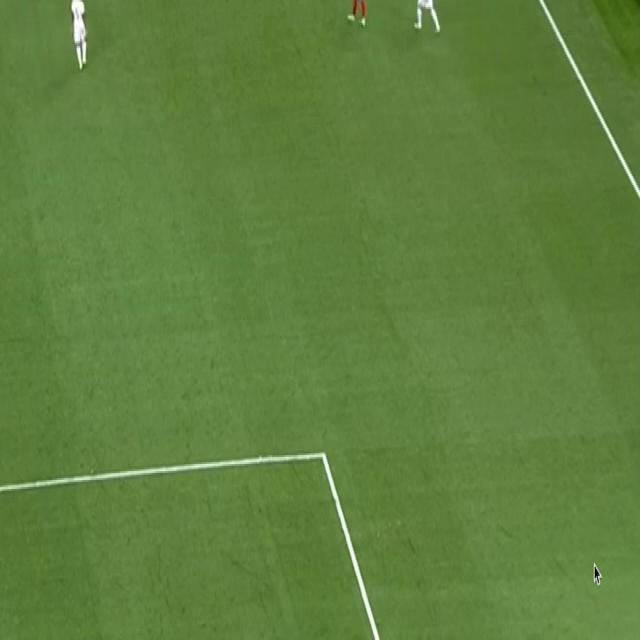player-white: (68, 0, 89, 73), (412, 0, 442, 36), (346, 0, 368, 30)
